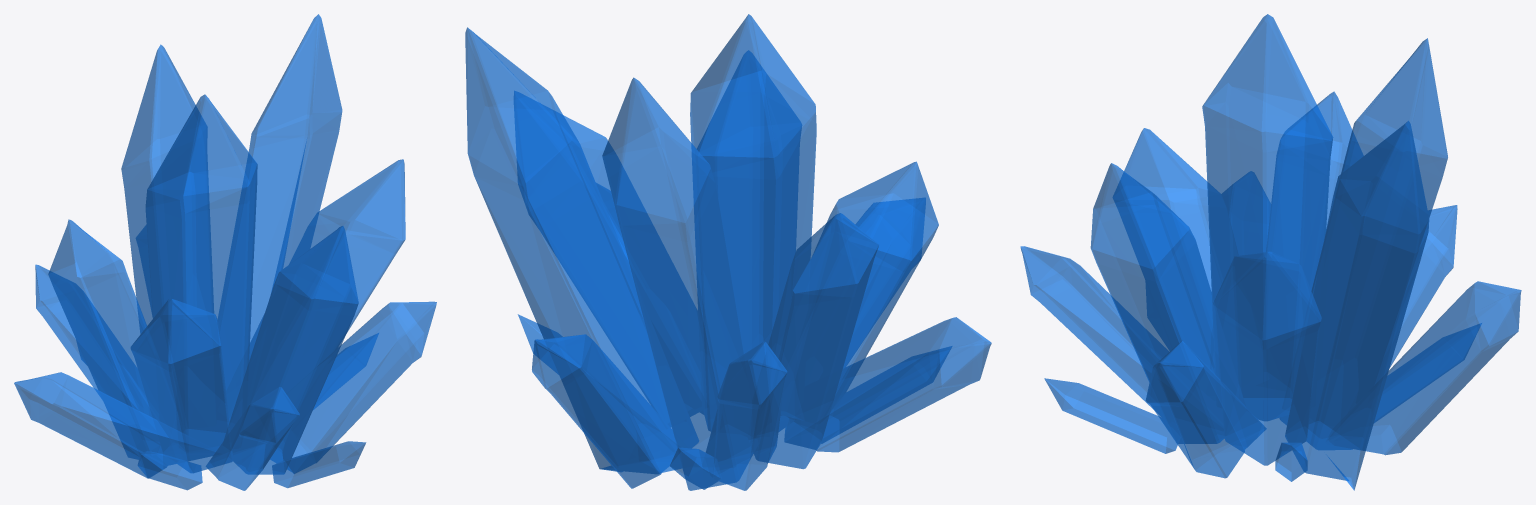
File: crystals.FBX
3 views of the same model, side by side, from view 1: azimuth 30°, elevation 25°; view 2: azimuth 150°, elevation 25°; view 3: azimuth 270°, elevation 25° (orthographic). The views are drawn at different scales.
Visible parts, largest first — view 1: crystals; view 2: crystals; view 3: crystals.
Part boxes in pixels (x1,y1,x2,y2): crystals: (14,14,436,490); crystals: (465,14,991,490); crystals: (1020,14,1521,490).
Size of the model in its own units: 27.58 by 25.14 by 26.65.
